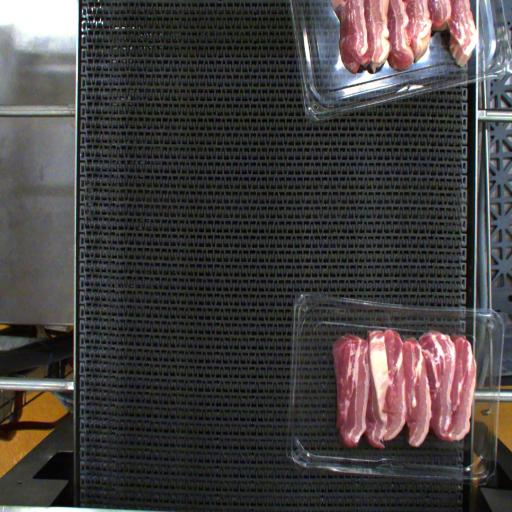twisted-meat: (369, 338, 388, 445)
